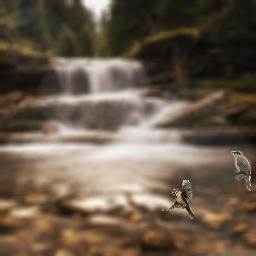Cuckoo: (231, 151, 251, 191)
Sparrow: (162, 179, 194, 219)
